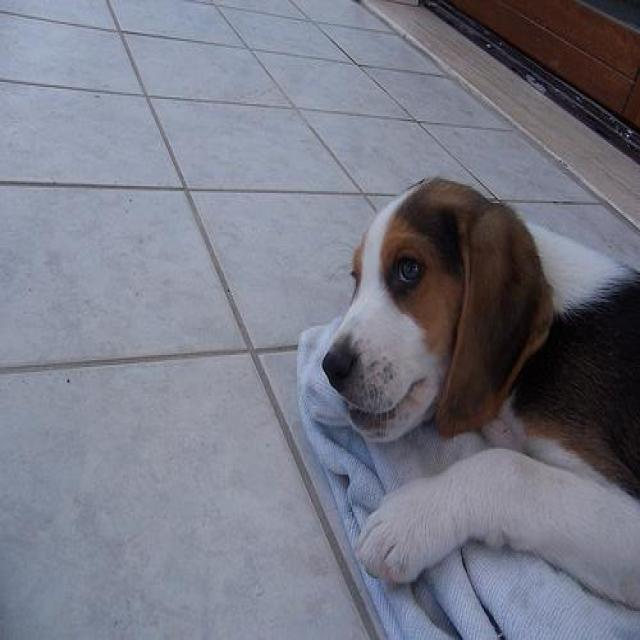beagle: (320, 177, 639, 638)
